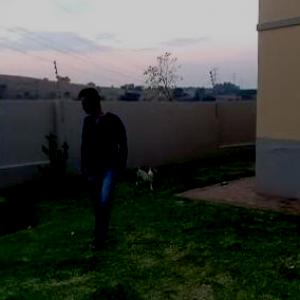follow: (89, 79, 132, 235)
